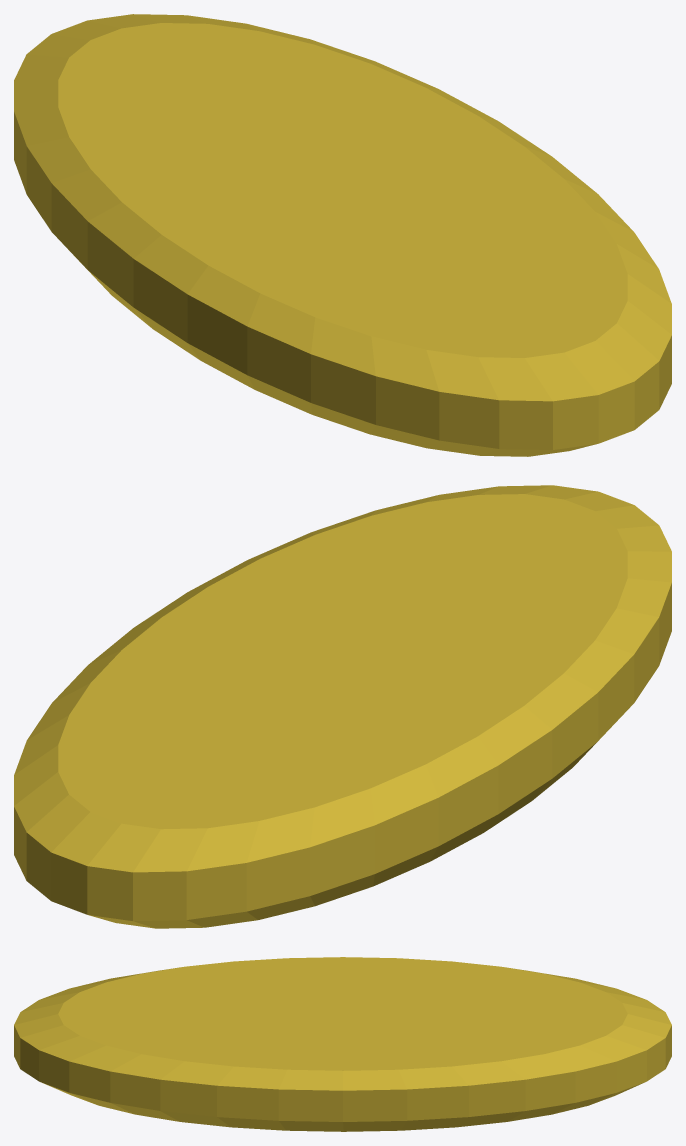
The model's file is Ramie1.obj.
3 views of the same model, one above another, from view 1: azimuth 30°, elevation 25°; view 2: azimuth 150°, elevation 25°; view 3: azimuth 270°, elevation 25° (orthographic). The views are drawn at different scales.
Visible parts, largest first — view 1: Cylinder; view 2: Cylinder; view 3: Cylinder.
Part boxes in pixels (<box>): Cylinder: <box>14,14,671,456</box>; Cylinder: <box>14,485,671,928</box>; Cylinder: <box>14,957,671,1131</box>.
Bounding box in the file's own units: 2 × 0.4242 × 4.23.
